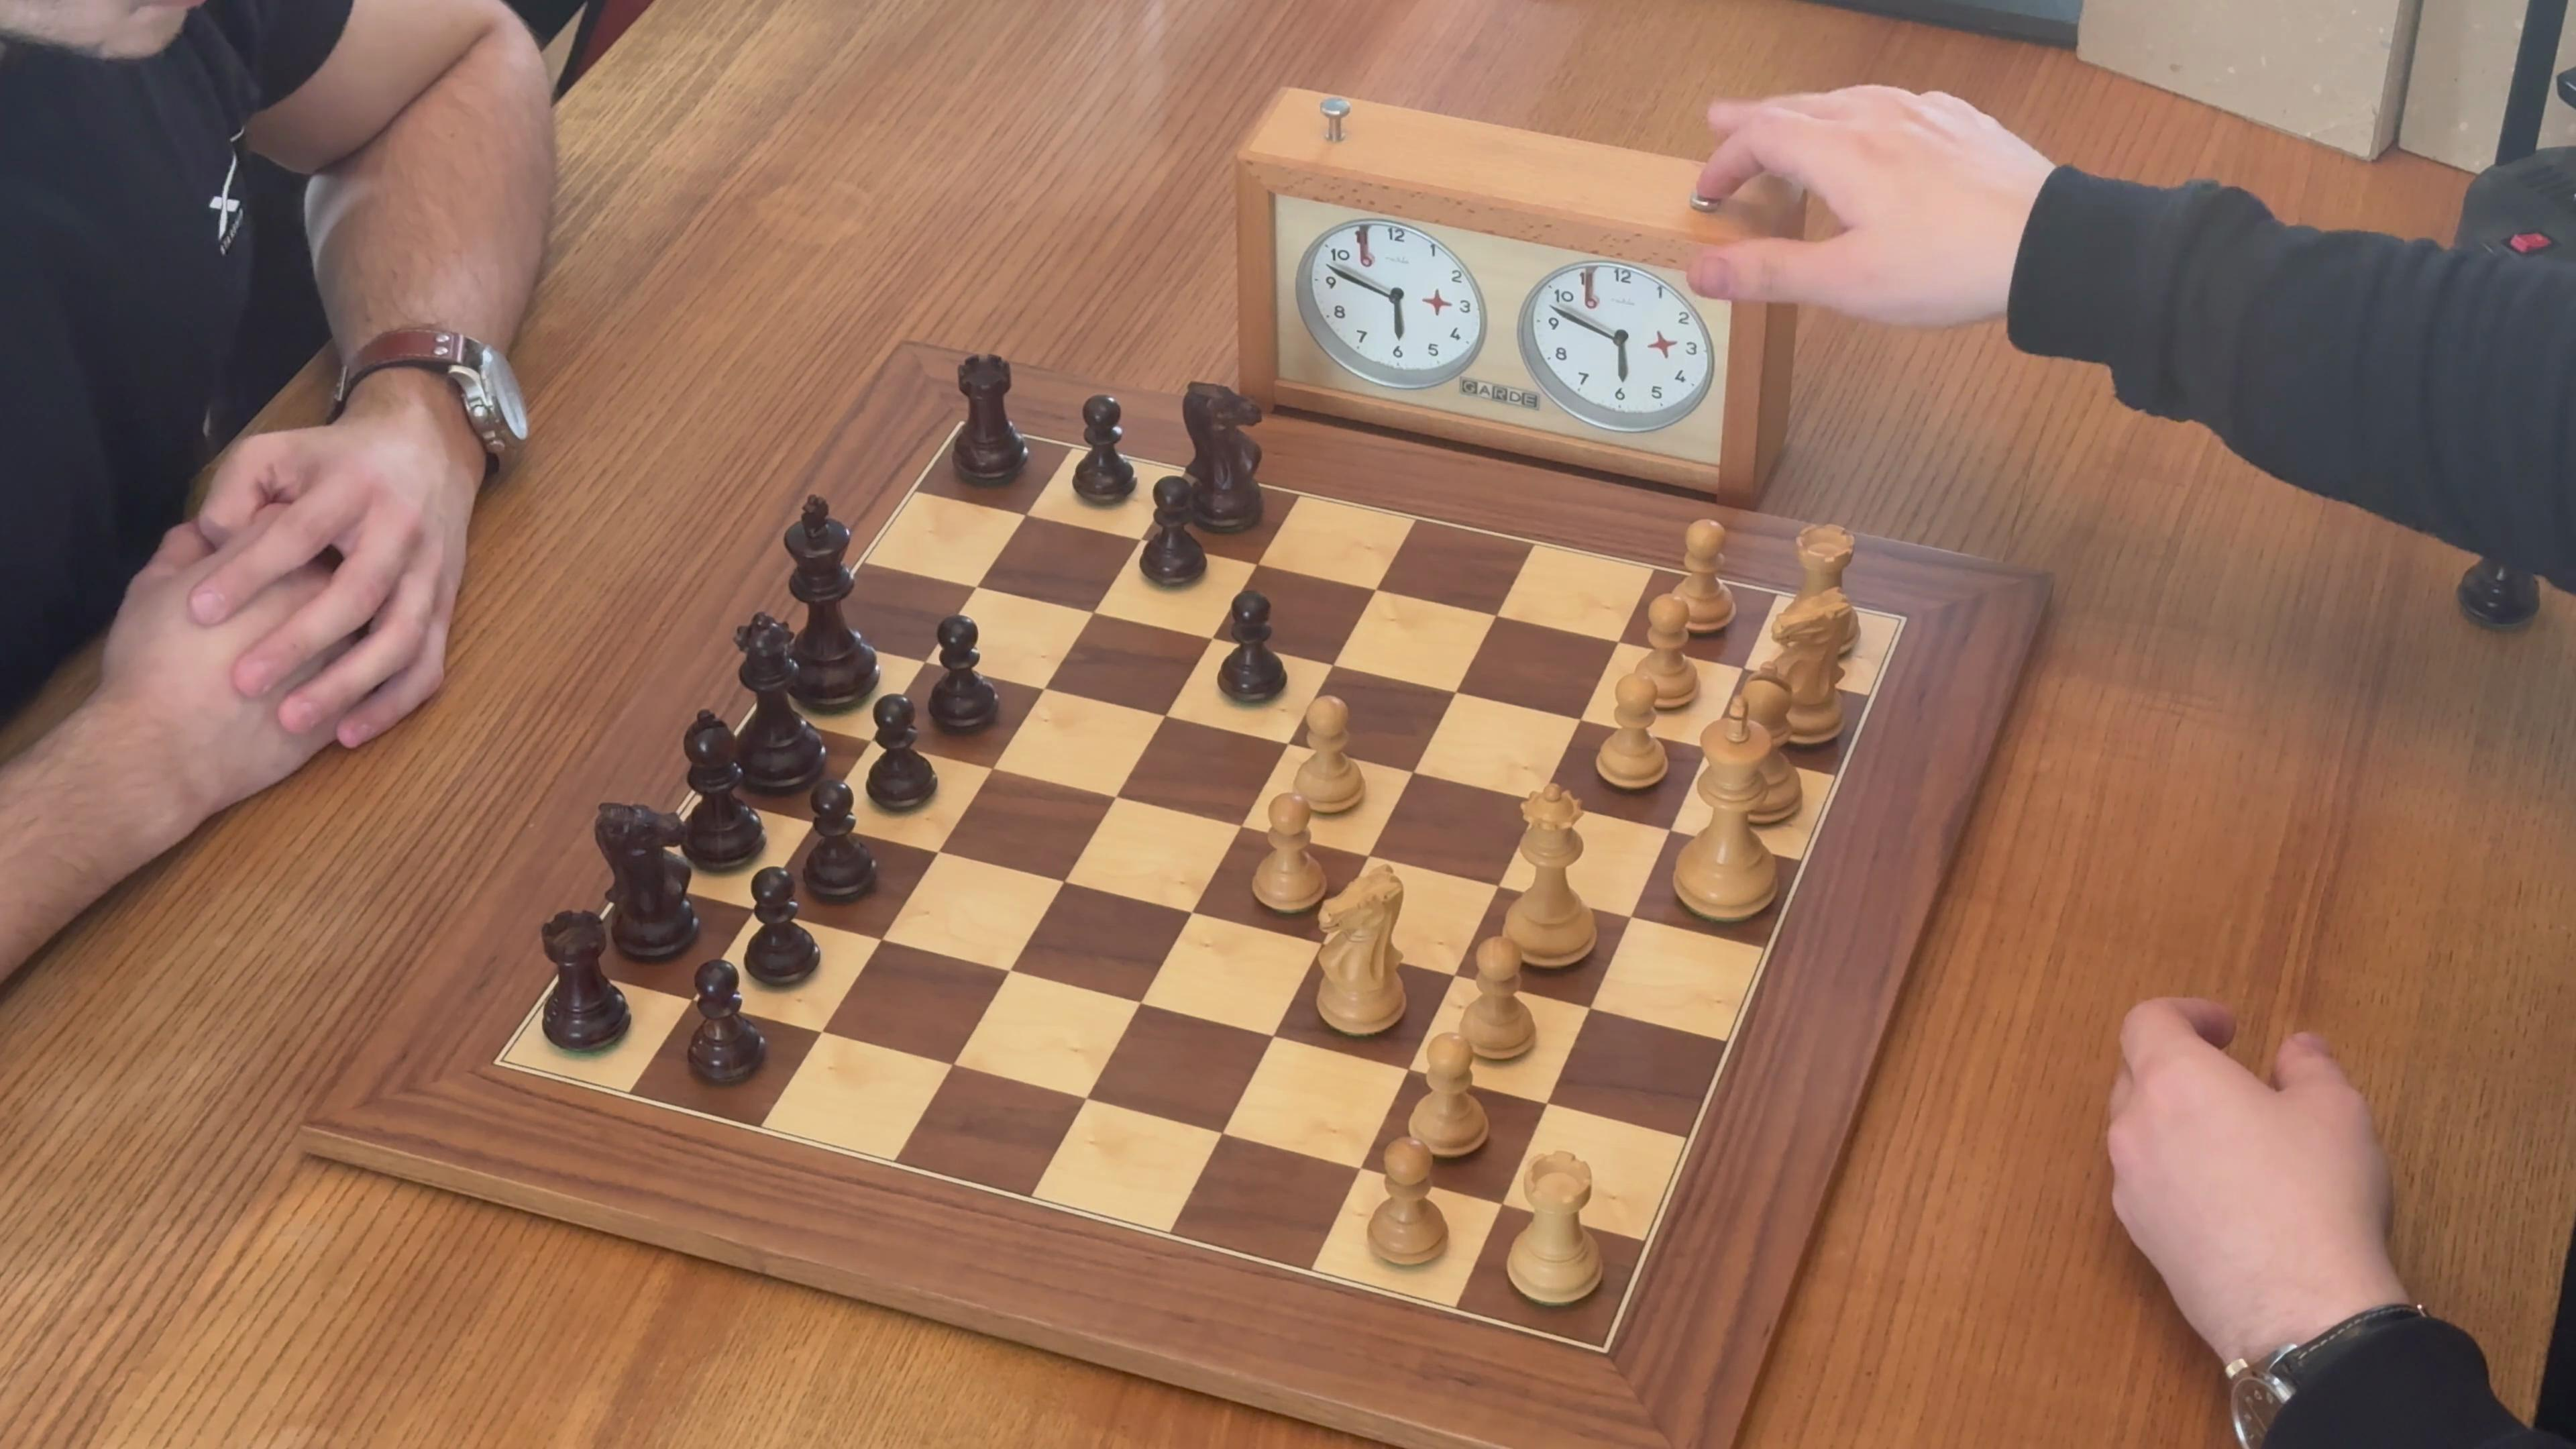left: (1314, 91, 1729, 219)
